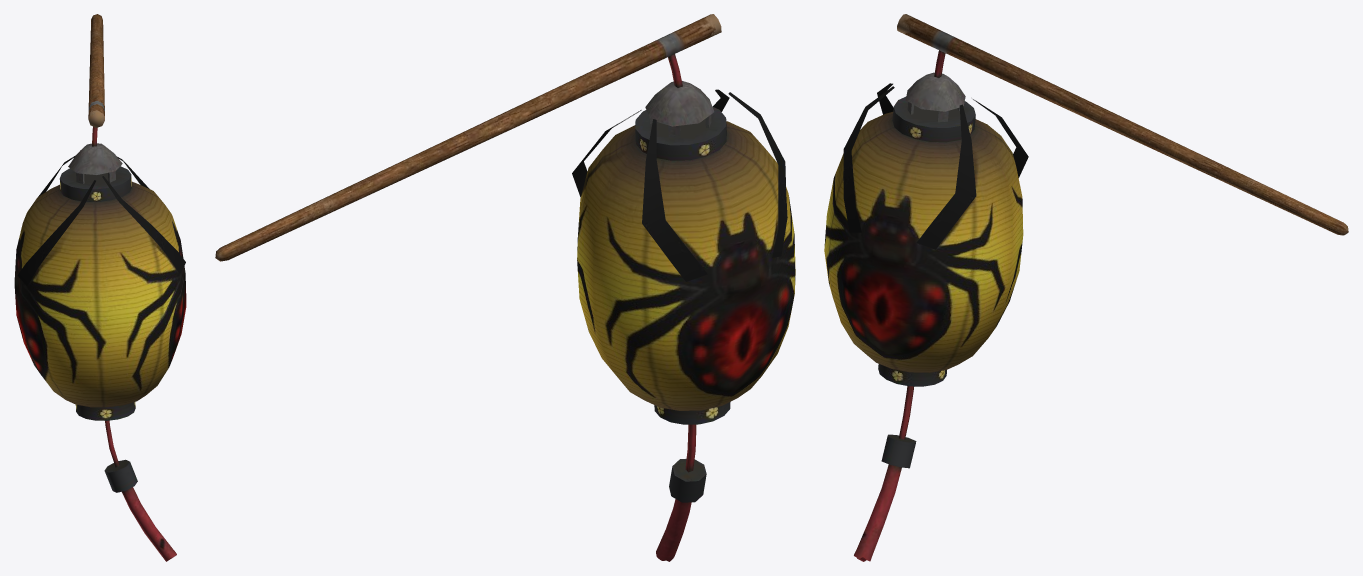
File: lantern-base.glb
3 renders of one model, left to right at view 1: azimuth 30°, elevation 25°; view 2: azimuth 150°, elevation 25°; view 3: azimuth 270°, elevation 25°, orthographic. The views are drawn at different scales.
Bounding box in the file's own units: 0.3556 × 0.5934 × 0.544.
1 material, 1 textured.
